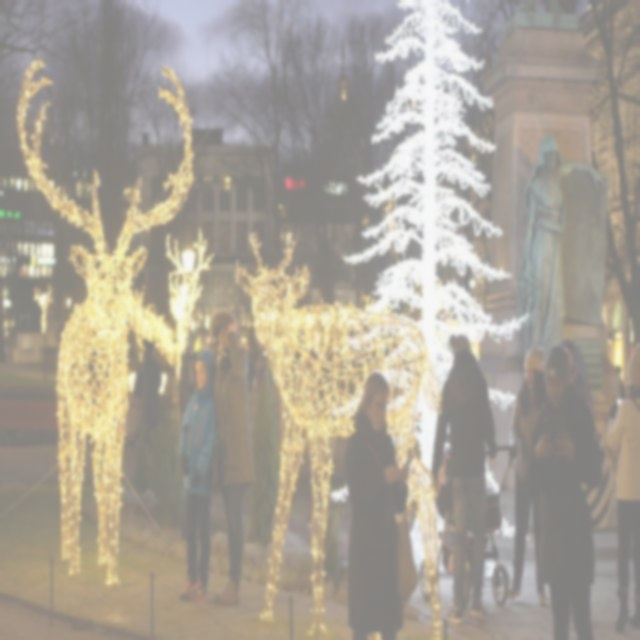pessoa: (526, 341, 606, 639), (333, 366, 418, 638), (426, 326, 496, 630), (512, 132, 602, 347), (208, 306, 254, 610), (507, 342, 550, 610), (176, 349, 218, 604), (604, 344, 640, 636), (124, 338, 162, 498), (610, 360, 628, 410)
